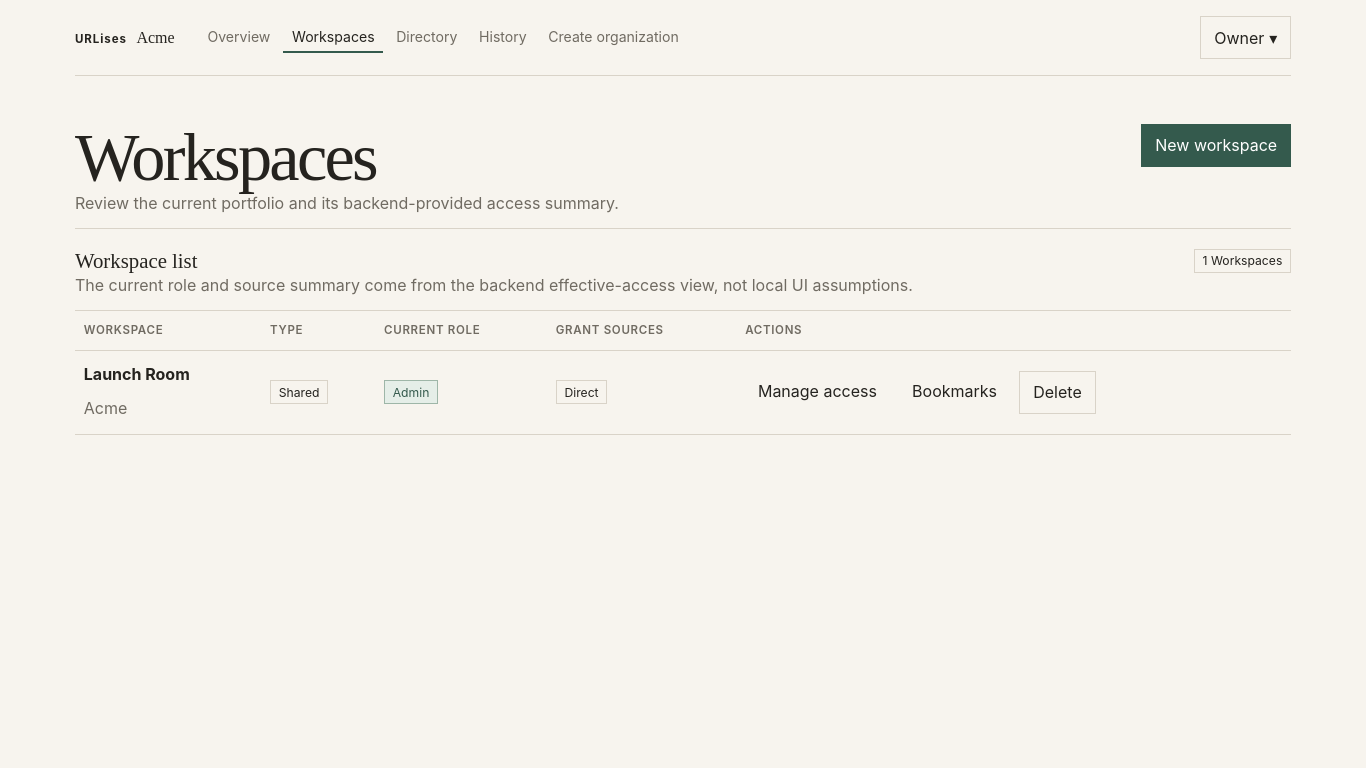
workspaces page › sends no delete request when the panel is closed without confirming
Click the button with aria-label "delete launch room" at {"x": 1057, "y": 392}, box [1019, 371, 1096, 414]
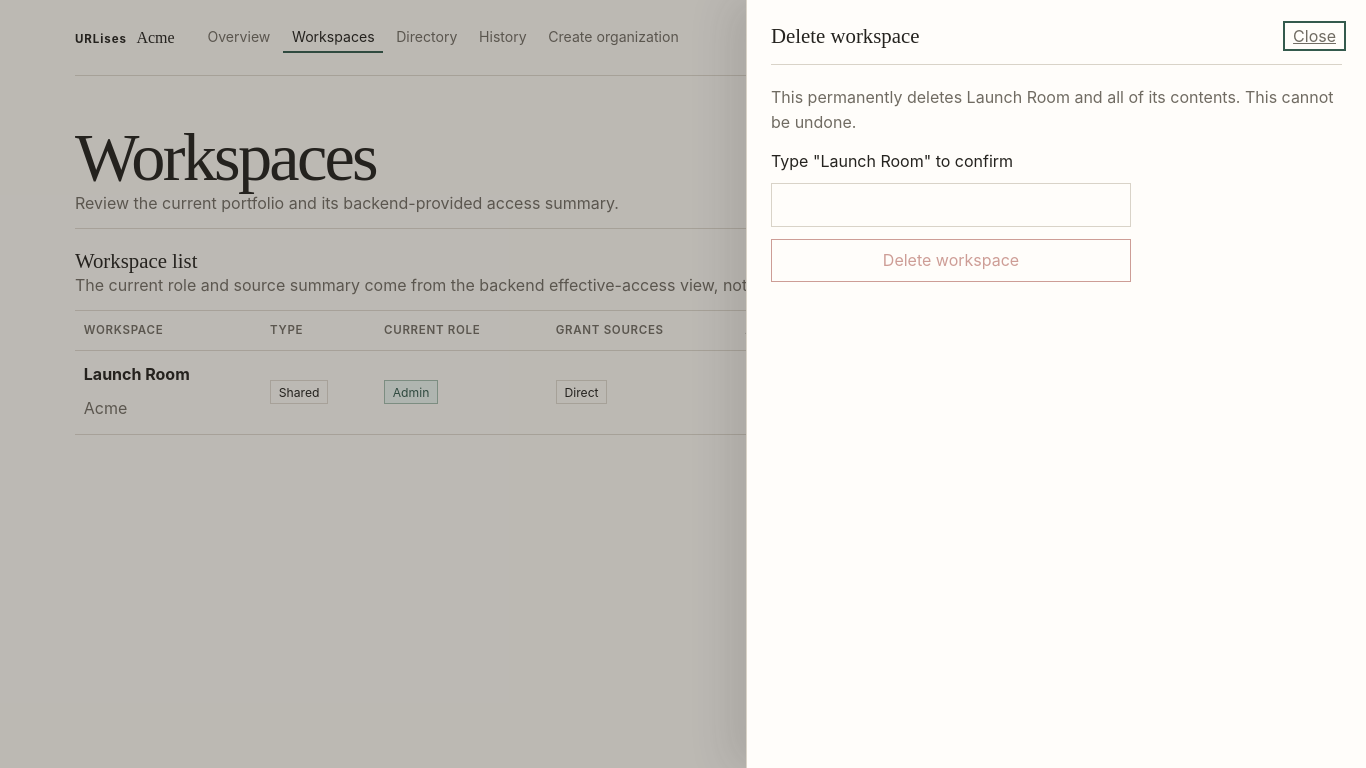
Type "Launch" into the field at {"x": 951, "y": 205}, box [771, 183, 1131, 227]
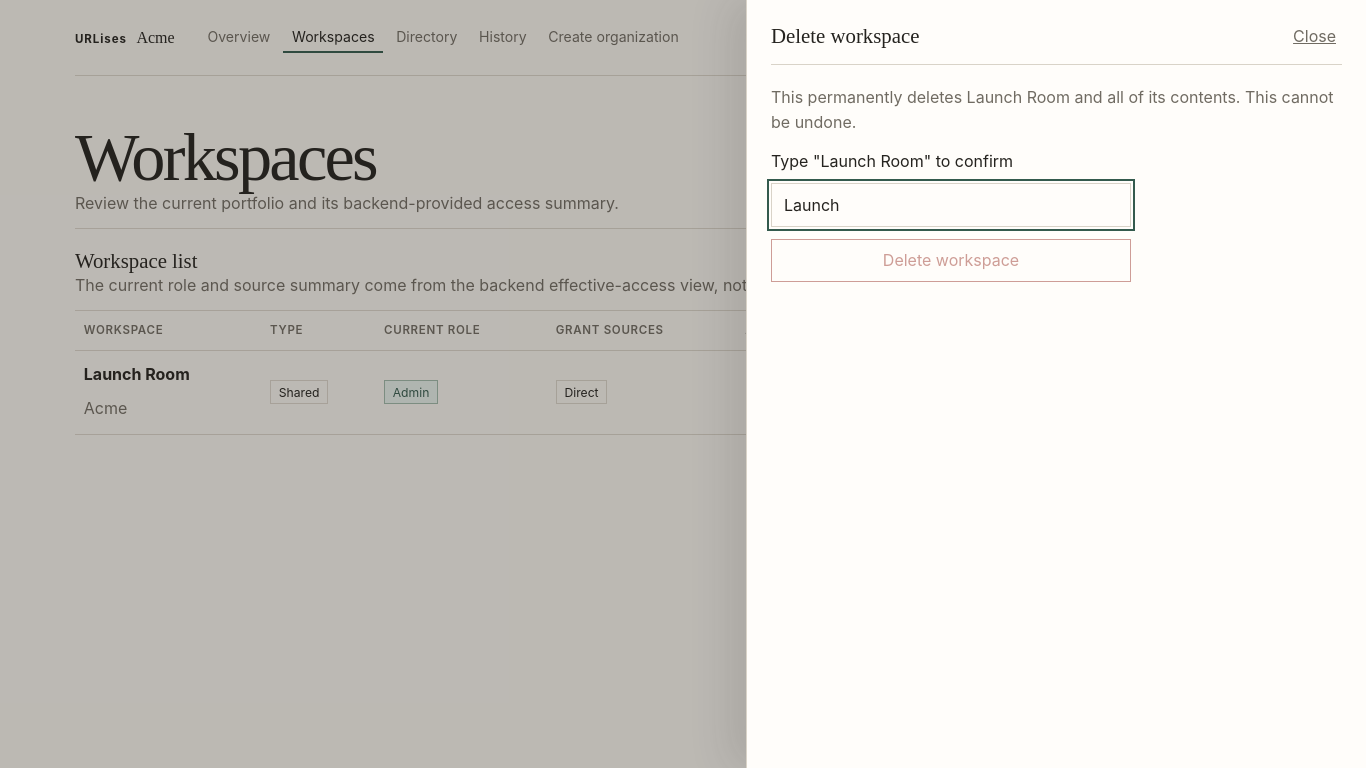
Click the button with aria-label "close panel" at {"x": 1315, "y": 36}, box [1287, 25, 1342, 47]
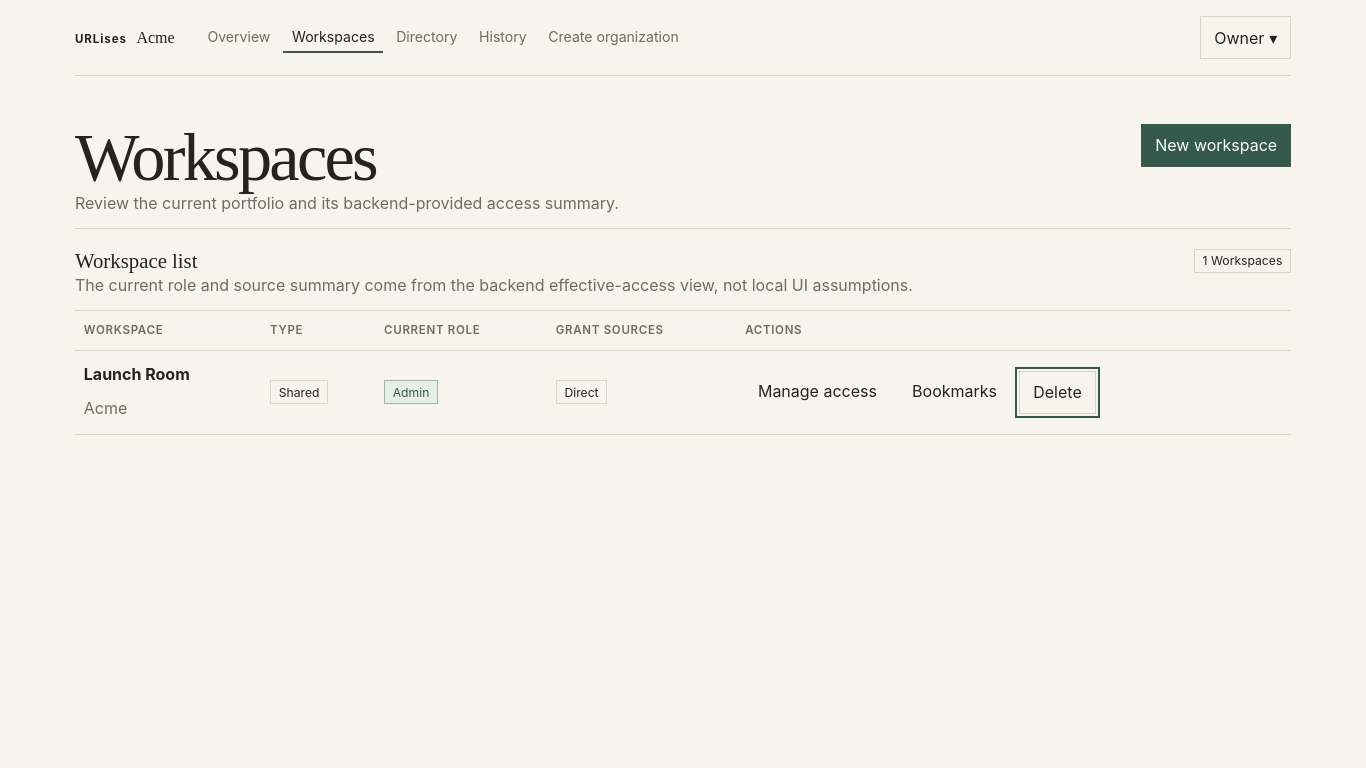
Expected: the text "Launch Room" is shown, [84, 364, 190, 384]
Expected: the field is gone
